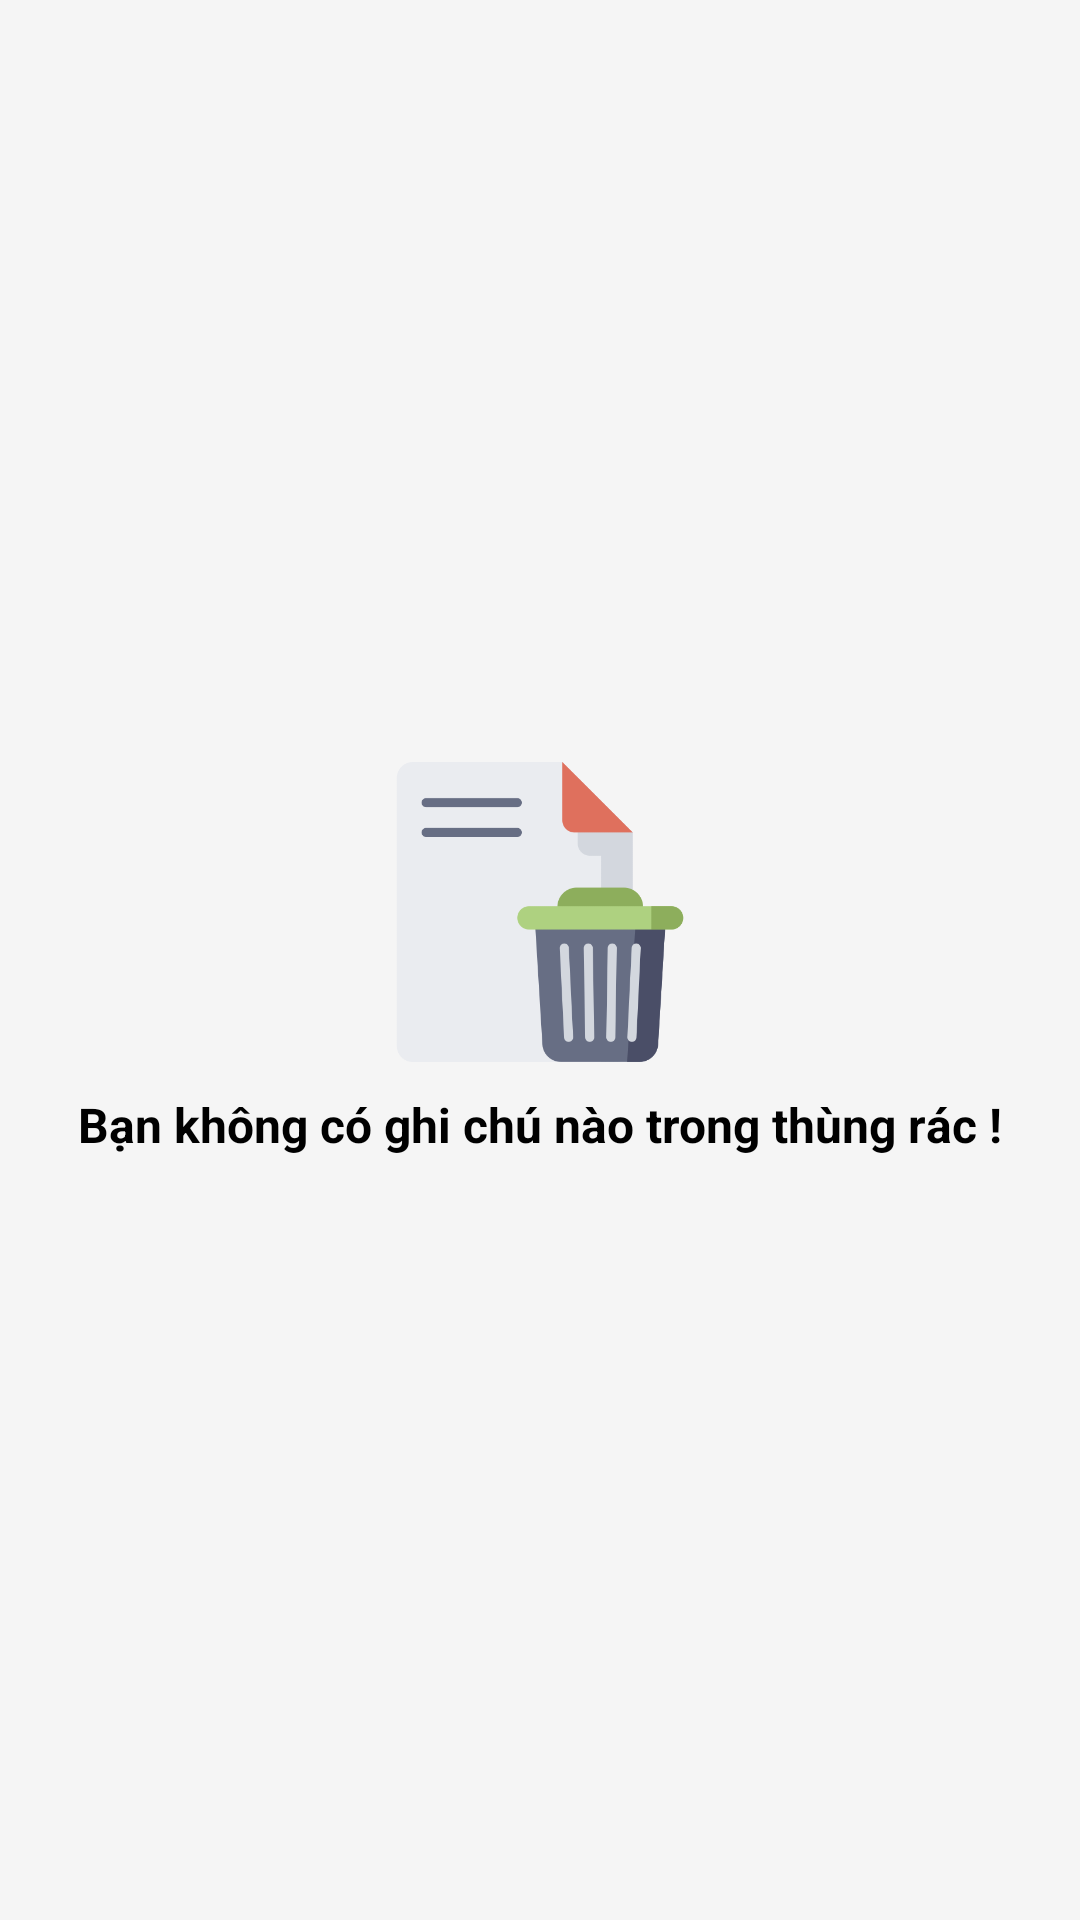

Icons on this 1080px x 1920px Android screen, each with the point to tap as point (x, y):
trash file: point (540, 912)
